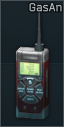Gas analyzer: (0, 0, 64, 127)
